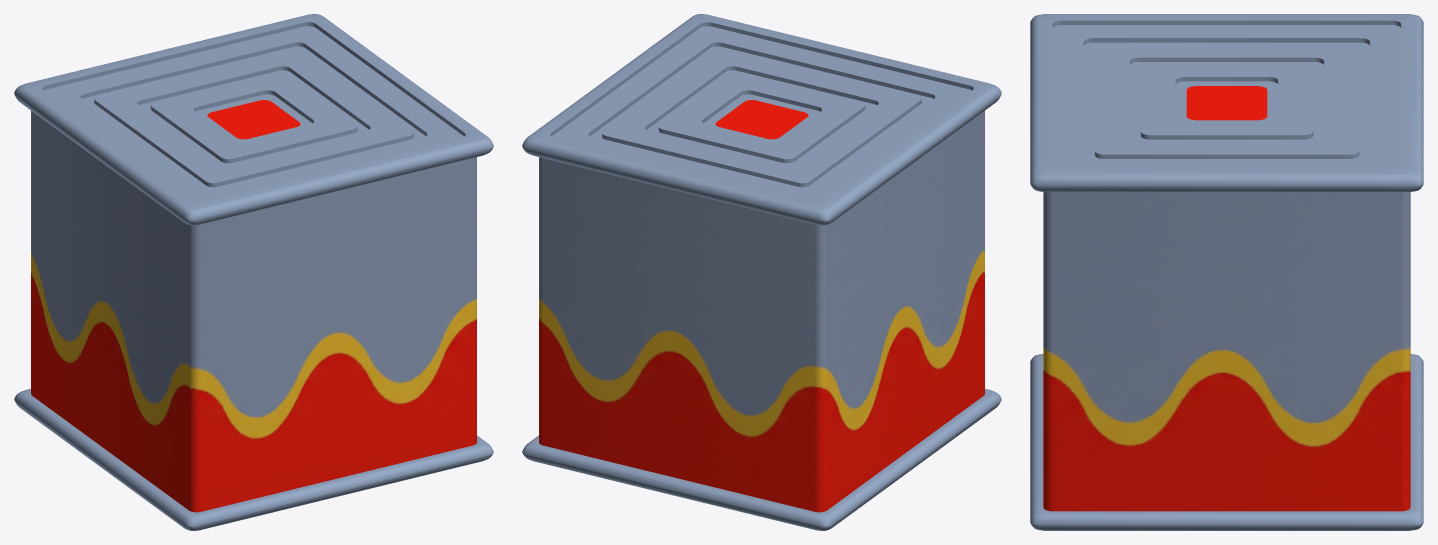
Rendered from CarnivalTinBox(1x1)(fixed1).fbx.
3 renders of one model, left to right at view 1: azimuth 30°, elevation 25°; view 2: azimuth 150°, elevation 25°; view 3: azimuth 270°, elevation 25°, orthographic. The views are drawn at different scales.
Parts seen in each view (by area): view 1: Cube; view 2: Cube; view 3: Cube.
Part boxes in pixels (bbox=[...]): Cube: bbox=[14, 14, 493, 530]; Cube: bbox=[522, 14, 1001, 530]; Cube: bbox=[1030, 14, 1423, 530].
Bounding box in the file's own units: 2 × 2 × 2.
2 materials, 2 textured.
